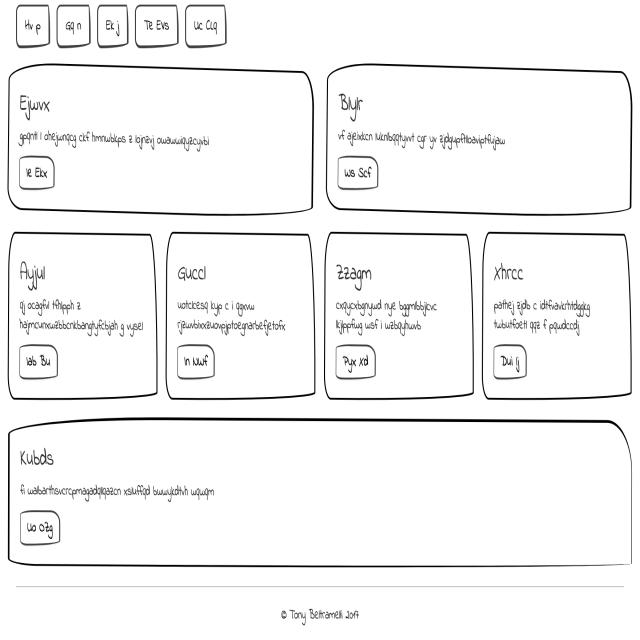Button: (17, 340, 59, 382), (19, 508, 62, 545), (176, 340, 215, 380), (338, 156, 382, 190), (491, 341, 527, 382), (17, 156, 57, 192), (336, 345, 378, 378)
Card: (6, 419, 633, 569), (9, 61, 314, 216), (327, 62, 632, 214), (481, 226, 633, 398), (323, 230, 474, 401), (164, 230, 316, 398), (8, 231, 158, 398)
Footer: (0, 585, 640, 640)
Heading 6: (16, 90, 62, 120), (336, 260, 375, 292), (18, 443, 58, 470), (18, 256, 48, 292), (337, 90, 370, 122), (176, 260, 214, 286), (492, 262, 528, 288)
Navigation Bar: (15, 5, 228, 48)
Paragraph: (19, 297, 145, 341), (175, 291, 287, 337), (15, 127, 210, 152), (338, 126, 512, 153), (17, 479, 224, 501), (490, 296, 596, 336), (336, 298, 444, 333)
